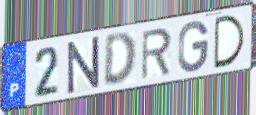2: (33, 46, 60, 99)
D: (102, 30, 139, 87), (213, 13, 248, 71)
G: (177, 19, 211, 75)
N: (66, 34, 102, 97)
R: (140, 26, 174, 82)
